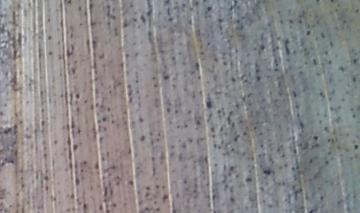tarspot: (144, 1, 154, 16), (66, 43, 75, 58), (283, 37, 290, 56), (225, 110, 233, 124), (138, 14, 146, 27), (262, 167, 272, 177), (3, 126, 14, 135), (194, 60, 201, 74), (161, 192, 169, 204), (297, 120, 305, 132), (232, 133, 241, 143), (126, 88, 134, 99), (176, 151, 184, 162), (337, 63, 346, 72), (228, 195, 237, 204), (164, 106, 172, 116), (243, 175, 253, 183), (229, 74, 237, 84), (318, 91, 326, 101), (205, 98, 212, 109), (291, 88, 298, 99), (82, 202, 89, 213), (352, 143, 360, 152), (71, 143, 79, 152), (162, 73, 170, 82), (216, 16, 225, 24), (73, 175, 80, 185), (305, 28, 312, 38), (259, 43, 266, 53), (306, 207, 317, 213), (165, 6, 171, 17), (205, 5, 213, 13), (144, 184, 152, 192), (153, 183, 161, 191), (39, 119, 47, 127), (212, 56, 220, 64), (311, 134, 320, 141), (311, 57, 318, 66), (319, 29, 326, 38), (328, 39, 335, 48), (93, 160, 100, 169), (138, 135, 145, 143), (326, 58, 333, 66), (318, 194, 325, 202), (126, 179, 134, 186), (101, 115, 108, 123), (137, 115, 144, 123), (198, 50, 206, 57), (46, 34, 53, 42), (81, 159, 88, 167), (44, 183, 50, 192), (255, 74, 261, 83), (76, 127, 82, 136), (98, 202, 104, 211), (182, 177, 188, 186), (351, 74, 356, 84), (42, 174, 49, 181), (194, 118, 201, 125), (323, 159, 330, 166), (110, 201, 117, 208), (173, 108, 180, 115), (182, 123, 189, 130), (221, 60, 228, 67), (167, 16, 174, 23), (150, 75, 157, 82), (74, 92, 80, 100), (52, 139, 60, 145), (205, 41, 211, 49), (187, 18, 193, 26), (287, 18, 295, 24), (259, 142, 265, 150), (126, 145, 131, 154), (105, 106, 112, 112), (292, 147, 298, 154), (351, 57, 357, 64), (232, 1, 238, 8), (272, 67, 279, 73), (230, 121, 236, 128), (350, 112, 357, 118), (128, 94, 132, 104), (152, 83, 158, 89), (163, 1, 172, 5), (125, 83, 131, 89), (47, 50, 53, 56), (194, 1, 200, 6), (230, 146, 235, 152), (66, 1, 73, 5), (202, 1, 208, 4), (328, 1, 335, 3), (314, 1, 321, 3)
